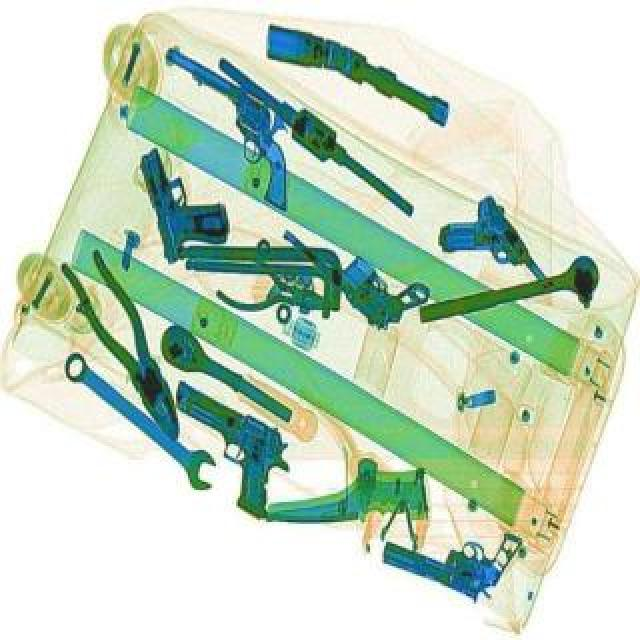gun: (120, 44, 334, 210), (134, 376, 310, 520), (274, 190, 434, 338), (376, 492, 524, 604), (428, 192, 554, 314), (136, 134, 234, 262)
scissors: (52, 344, 228, 492)
wrench: (58, 244, 200, 444), (206, 244, 346, 338)
